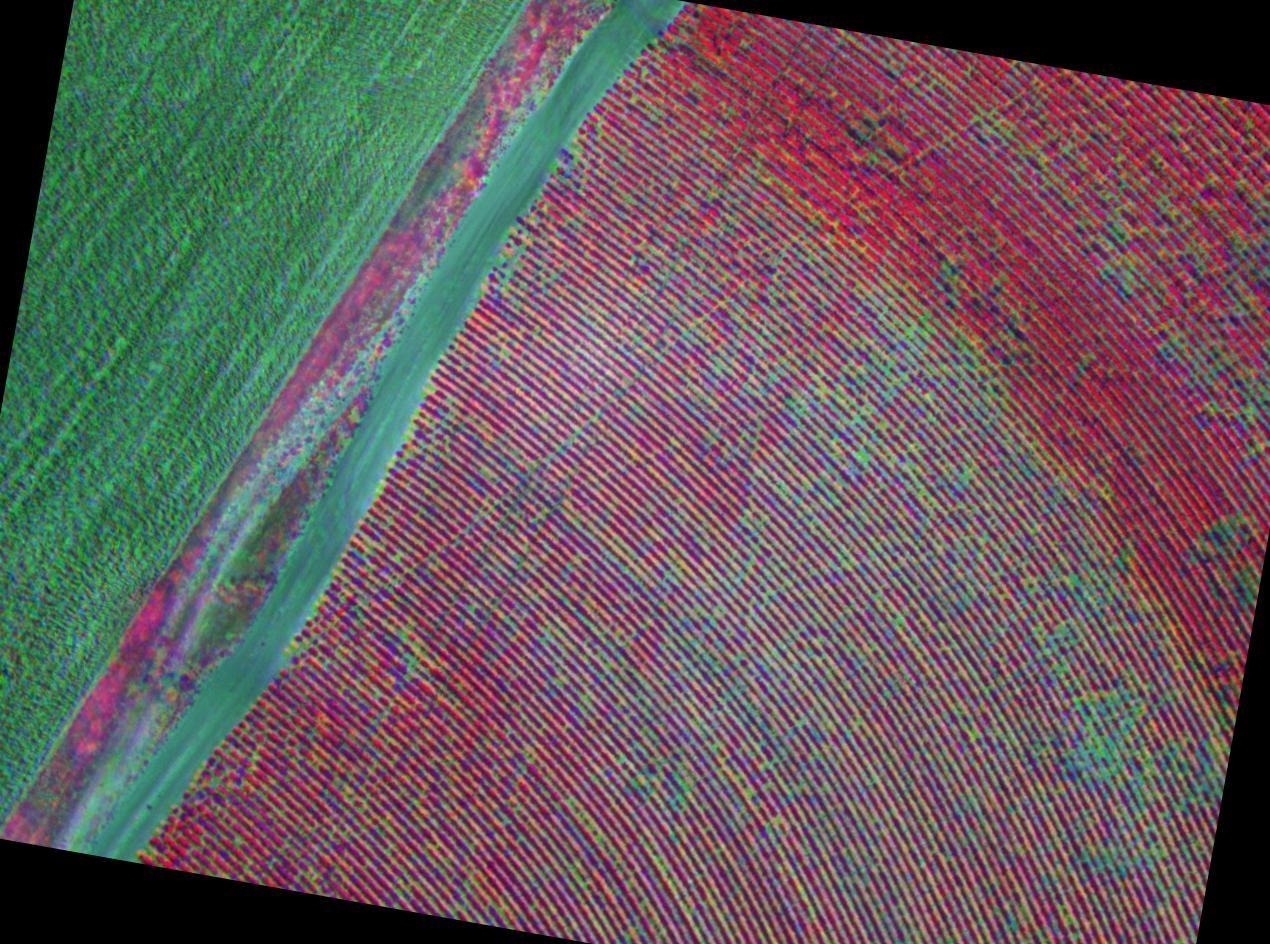dc: (1058, 627, 1064, 634), (1097, 750, 1103, 756), (213, 778, 219, 783), (497, 908, 502, 913), (858, 719, 862, 724), (776, 818, 780, 823), (582, 883, 586, 887)
